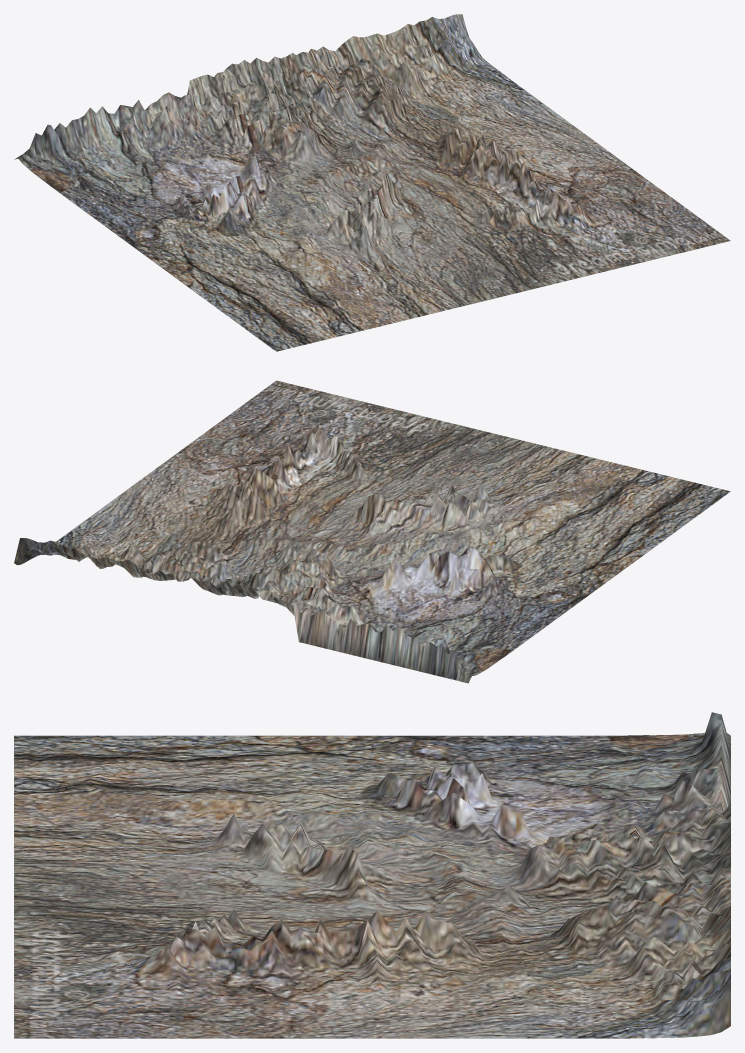
Rendered from terrain.FBX.
3 renders of one model, top to bottom at view 1: azimuth 30°, elevation 25°; view 2: azimuth 150°, elevation 25°; view 3: azimuth 270°, elevation 25°, orthographic. The views are drawn at different scales.
Parts seen in each view (by area): view 1: Plane001; view 2: Plane001; view 3: Plane001.
Part boxes in pixels (bbox=[...]): Plane001: bbox=[14, 14, 730, 351]; Plane001: bbox=[14, 380, 730, 683]; Plane001: bbox=[14, 712, 730, 1038].
Size of the model in its own units: 1000 by 91.58 by 1000.
1 material, 1 textured.
